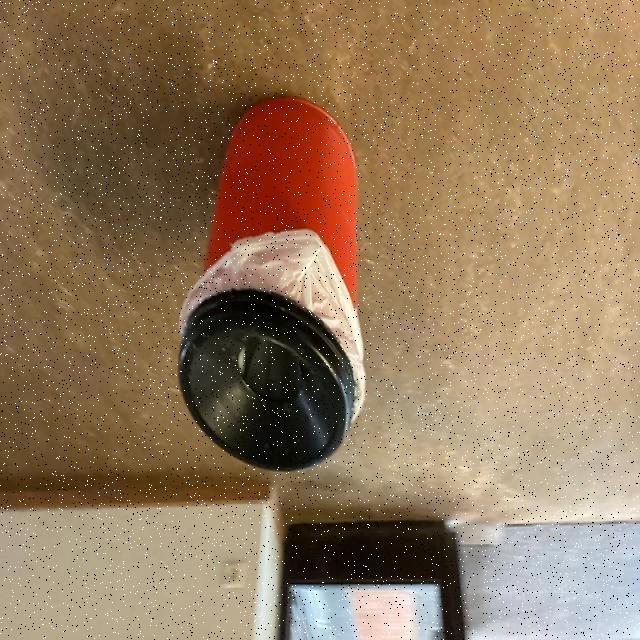garbage container: (165, 60, 384, 519)
